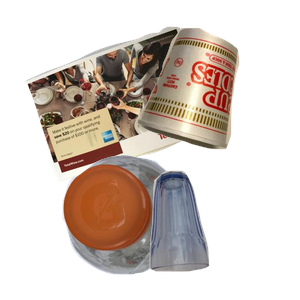glass: (147, 168, 300, 300)
paper: (23, 24, 232, 199)
plastic: (60, 152, 237, 300)
trash: (133, 25, 300, 167)
